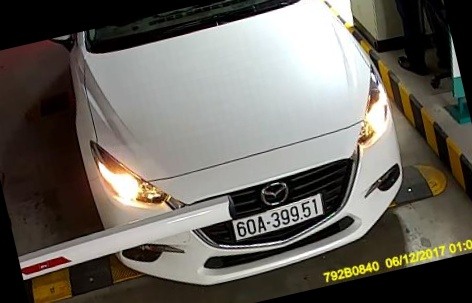plate: (231, 192, 330, 243)
